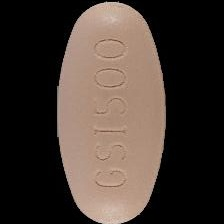43353-880: (0, 0, 224, 224)
